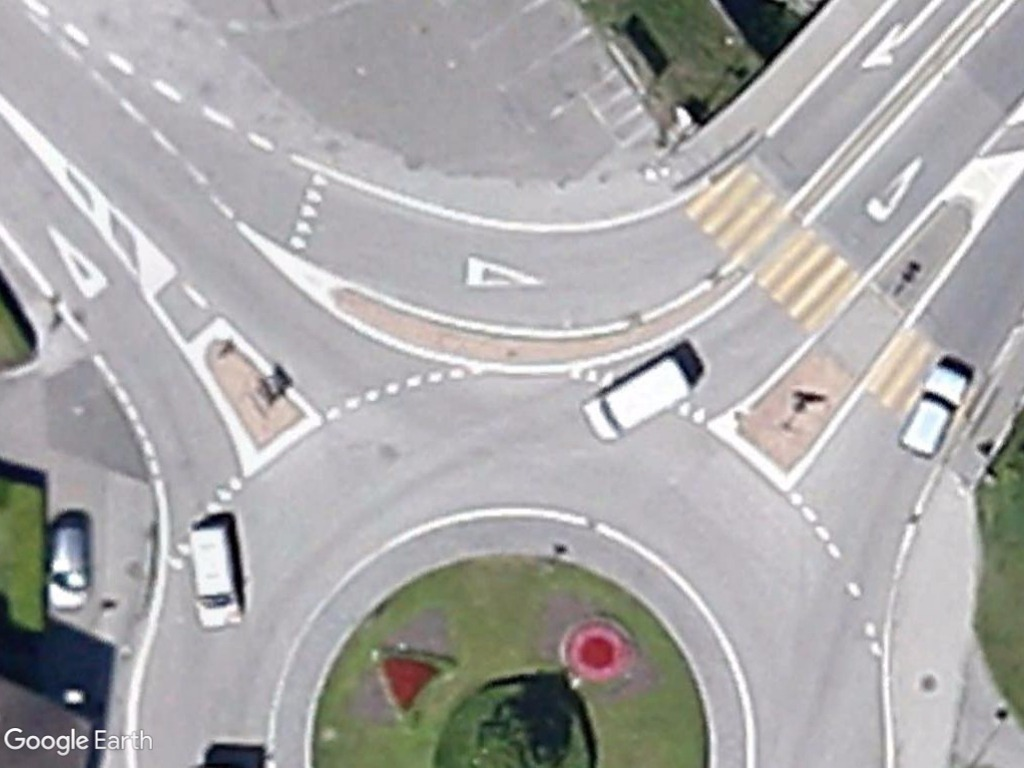car: (896, 359, 973, 465), (45, 515, 95, 616)
van: (585, 354, 701, 445), (183, 513, 245, 634)
